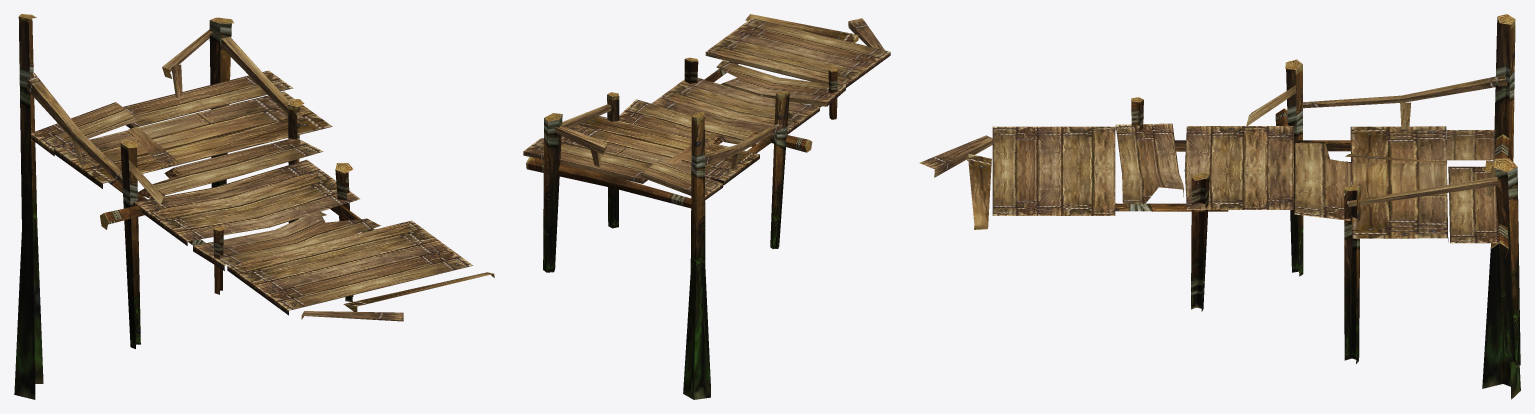
File: S_Build_Village038_1060_1.fbx
3 views of the same model, side by side, from view 1: azimuth 30°, elevation 25°; view 2: azimuth 150°, elevation 25°; view 3: azimuth 270°, elevation 25° (orthographic). The views are drawn at different scales.
Parts seen in each view (by area): view 1: S_Build_Village038_1060_1; view 2: S_Build_Village038_1060_1; view 3: S_Build_Village038_1060_1.
Boxes of the visible parts, x1=… form: S_Build_Village038_1060_1: x1=14, y1=14, x2=494, y2=399; S_Build_Village038_1060_1: x1=523, y1=14, x2=890, y2=399; S_Build_Village038_1060_1: x1=919, y1=14, x2=1520, y2=399.
Size of the model in its own units: 654 by 859 by 1257.
Materials: 1 (1 with a texture image).
